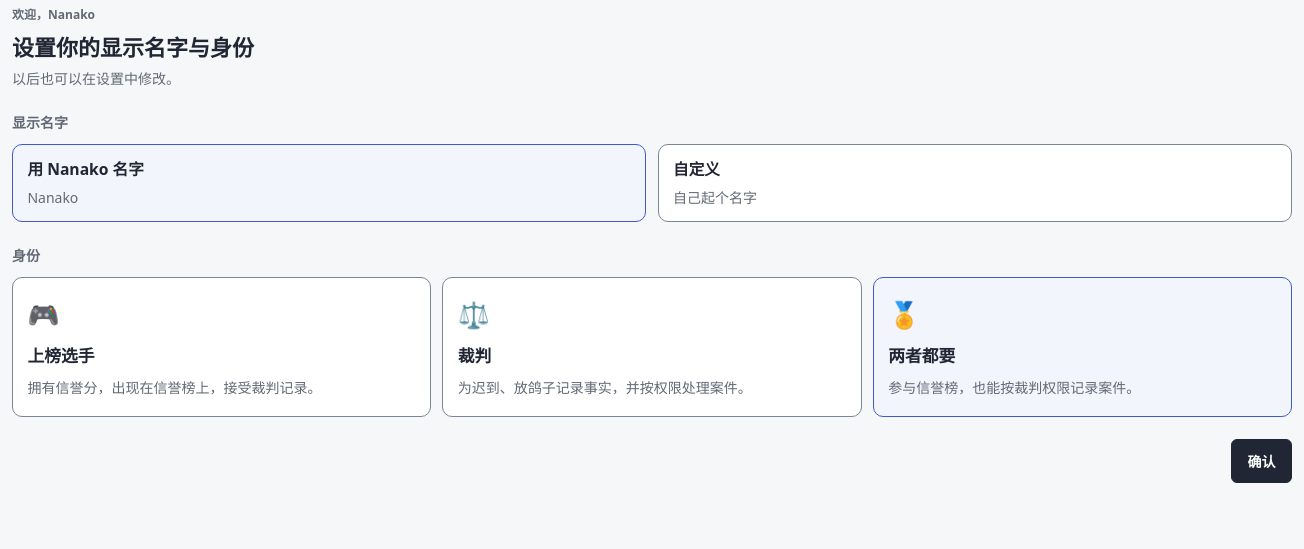
IdentityForm saves › warns a judge who is about to step down
Expected: the text "需要管理员重新授予" is not shown
Step 1. Click the radio button labelled "🎮 上榜选手 拥有信誉分，出现在信誉榜上，接受裁判记录。" → (43, 314), box x1=12 y1=277 x2=431 y2=417
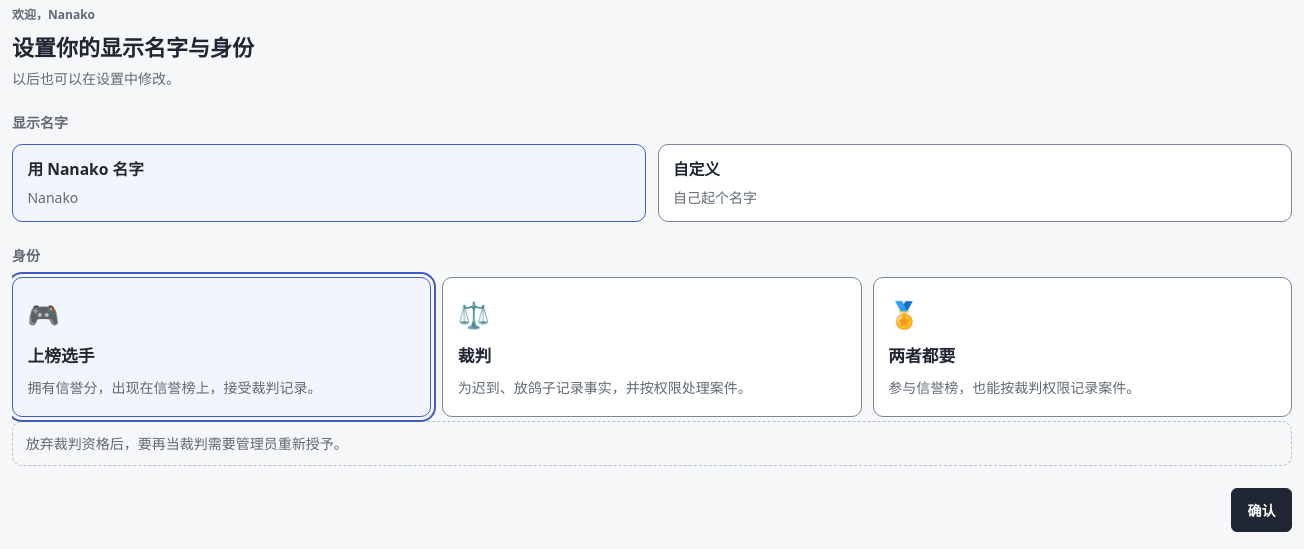
Expected: the text "放弃裁判资格后，要再当裁判需要管理员重新授予。" is shown, x1=12 y1=421 x2=1292 y2=466
